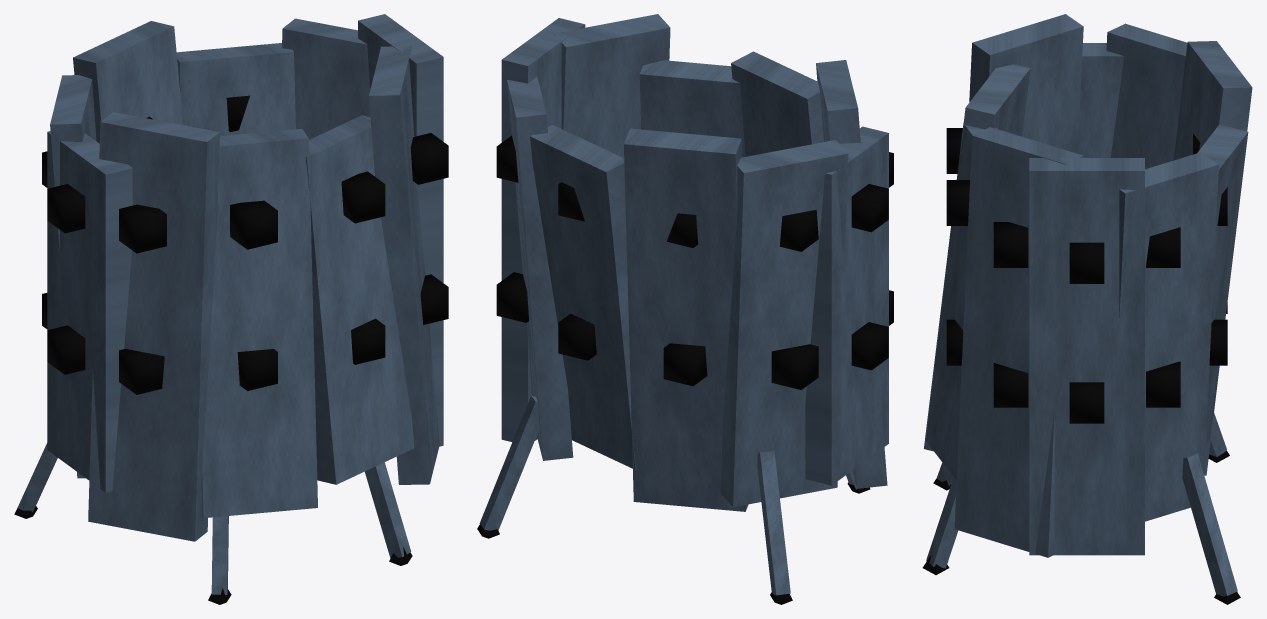
Rendered from rival_mother_skirt.obj.
The picture shows the model from 3 angles, left to right: view 1: azimuth 30°, elevation 25°; view 2: azimuth 150°, elevation 25°; view 3: azimuth 270°, elevation 25°; orthographic projection. The views are drawn at different scales.
Visible parts, largest first — view 1: rival_mother_skirt; view 2: rival_mother_skirt; view 3: rival_mother_skirt.
Boxes of the visible parts, x1=… form: rival_mother_skirt: x1=14, y1=14, x2=448, y2=604; rival_mother_skirt: x1=477, y1=14, x2=893, y2=604; rival_mother_skirt: x1=922, y1=14, x2=1252, y2=604.
Bounding box in the file's own units: 0.7002 × 0.8015 × 0.535.
